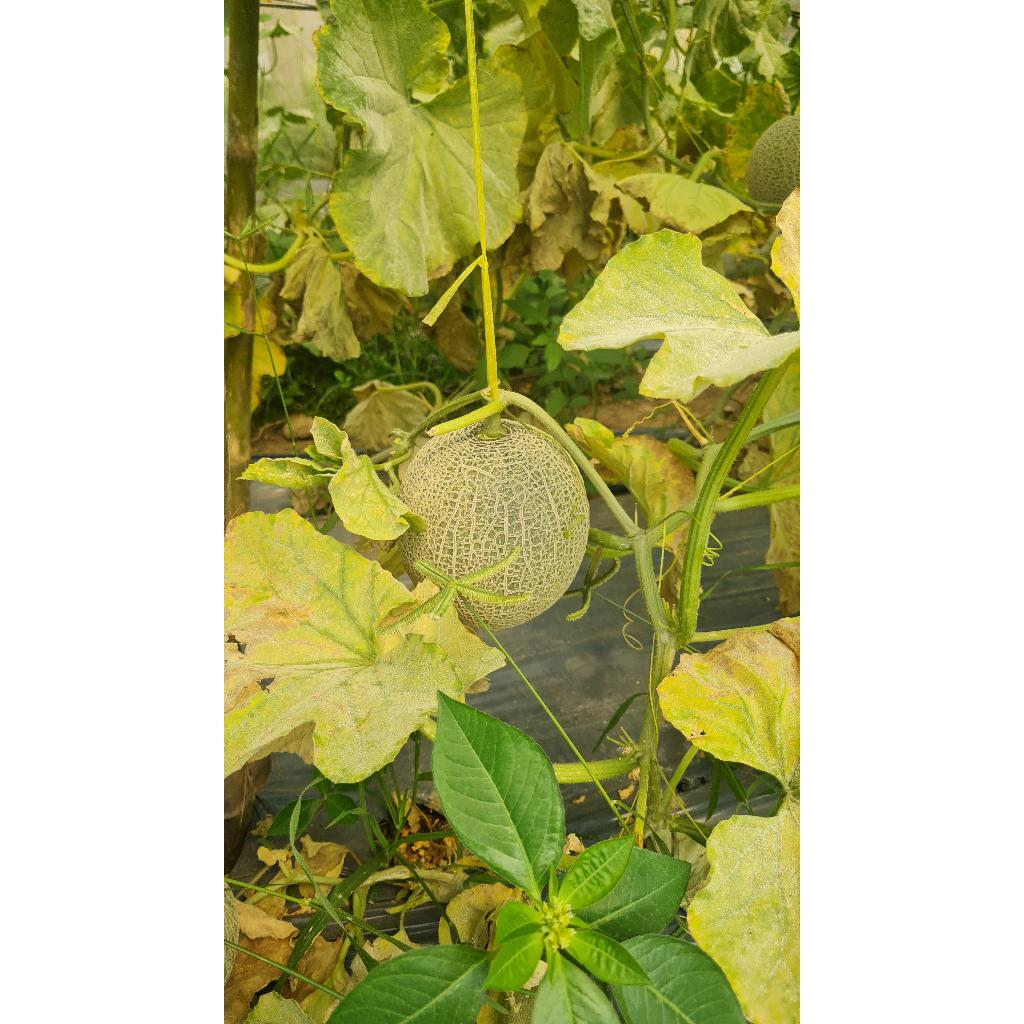melon: (398, 420, 590, 630)
